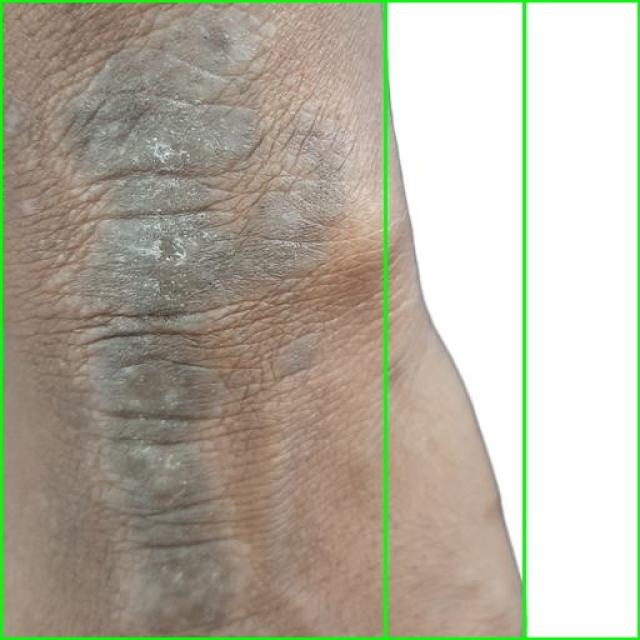Eczema: (0, 0, 524, 639), (385, 0, 639, 639)
